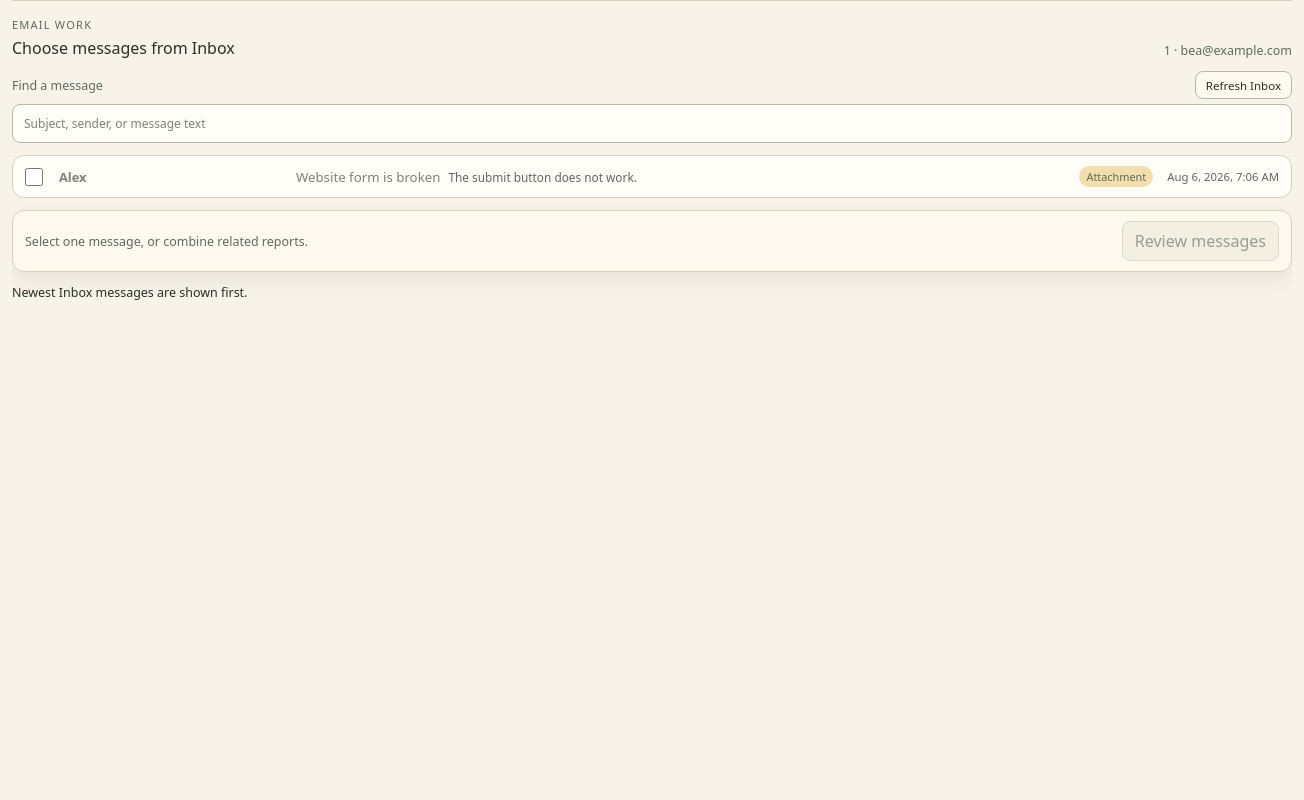
Test: previews an Inbox message and explicitly imports its body and attachments as a task
The width and height of the screenshot is (1304, 800).
Expected: the text "Website form is broken" is shown, [296,168,440,186]
Expected: the text "The submit button does not work." is shown, [448,168,637,184]
Click the checkbox at {"x": 34, "y": 176}, box [25,166,43,186]
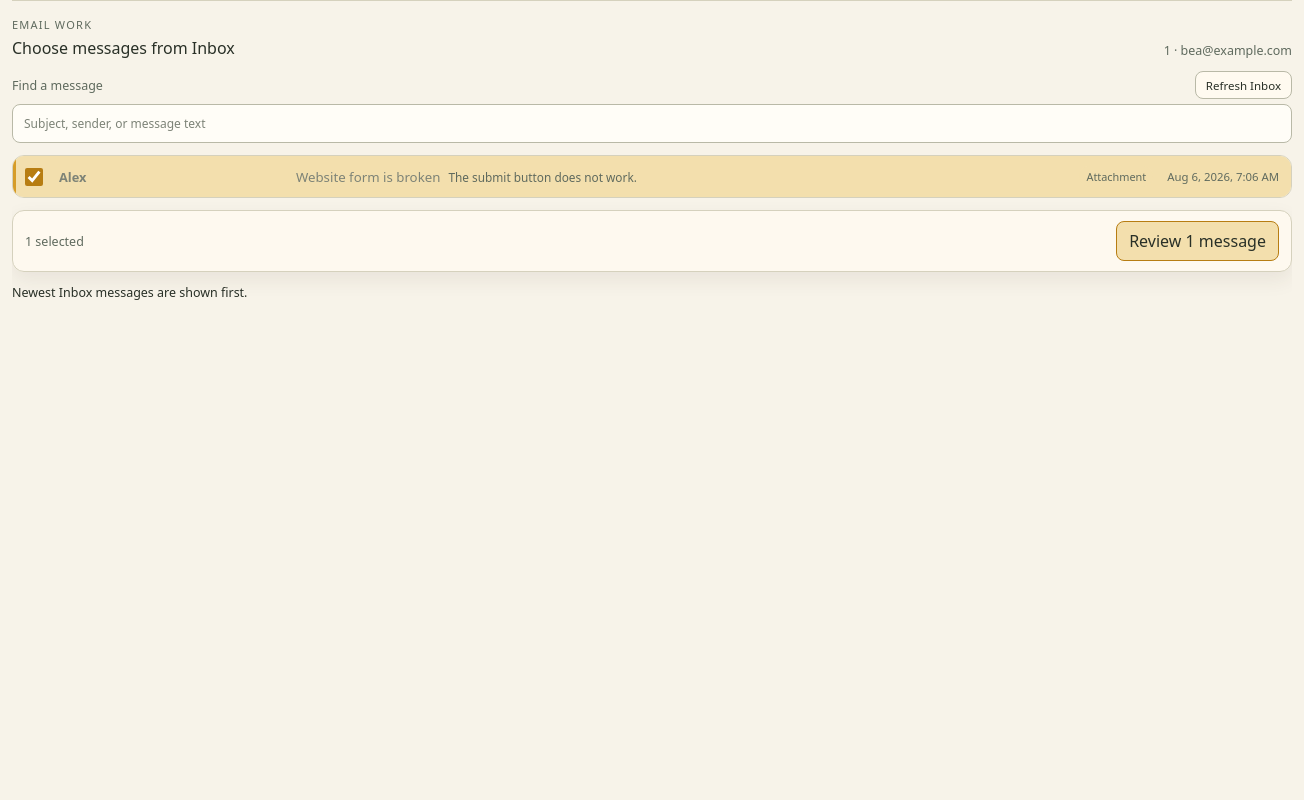
Click the button "Review 1 message" at {"x": 1198, "y": 241}, box [1116,221,1279,261]
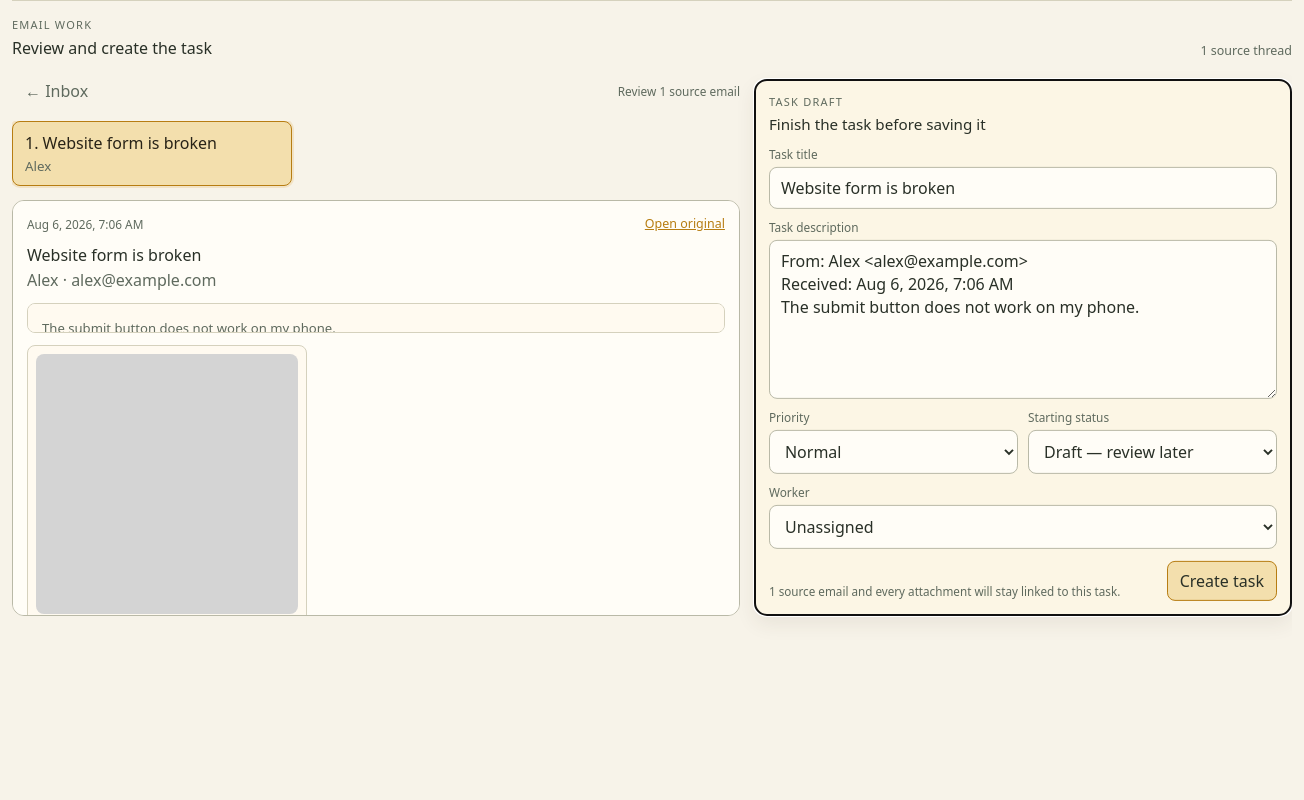
Result: the text "The submit button does not work on my phone." is shown at [42,319,336,333]
Result: the text "source email and every attachment will stay linked" is shown at [769,584,1120,601]
Select "High" in the dropdown labelled "Priority" at {"x": 893, "y": 452}, box [769,430,1018,474]
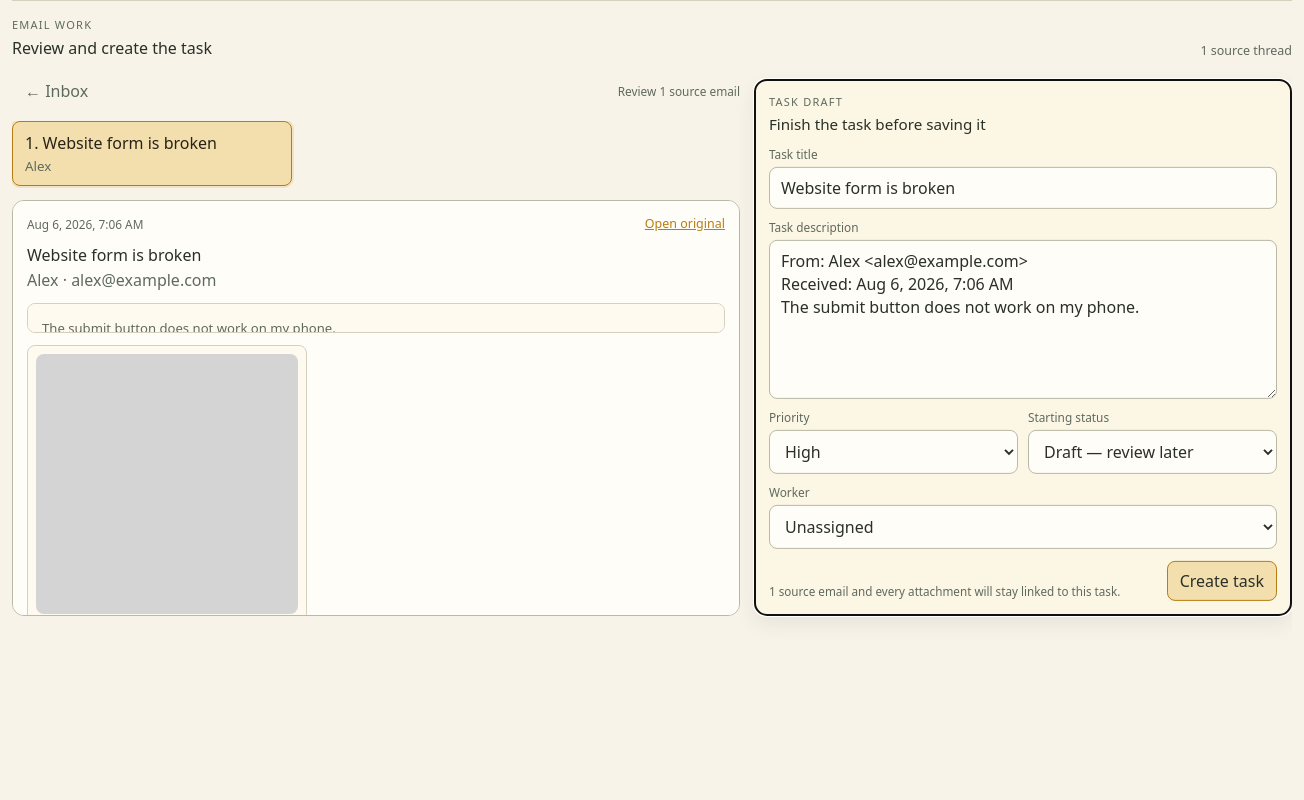
Click the button "Create task" at {"x": 1222, "y": 581}, box [1167,561,1277,601]
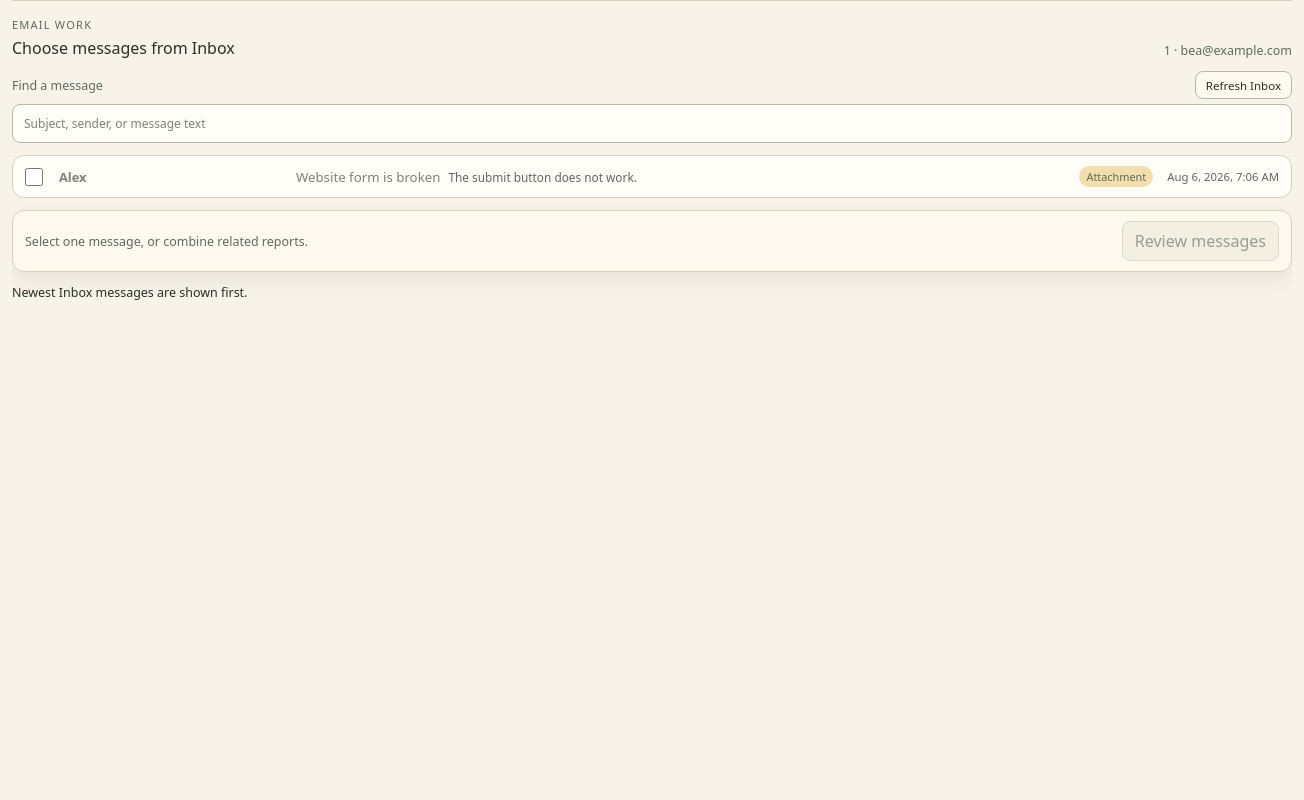
Result: the text "1 email added as one task." is shown at [12,284,248,301]
